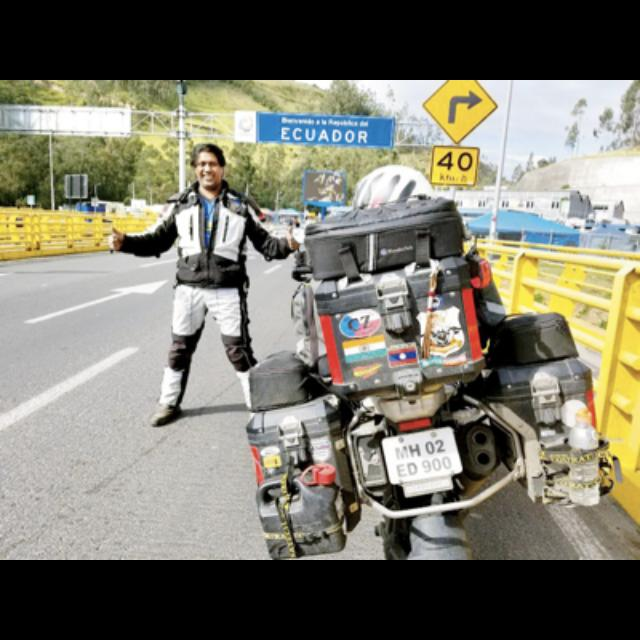Without Helmet: (182, 137, 230, 196)
